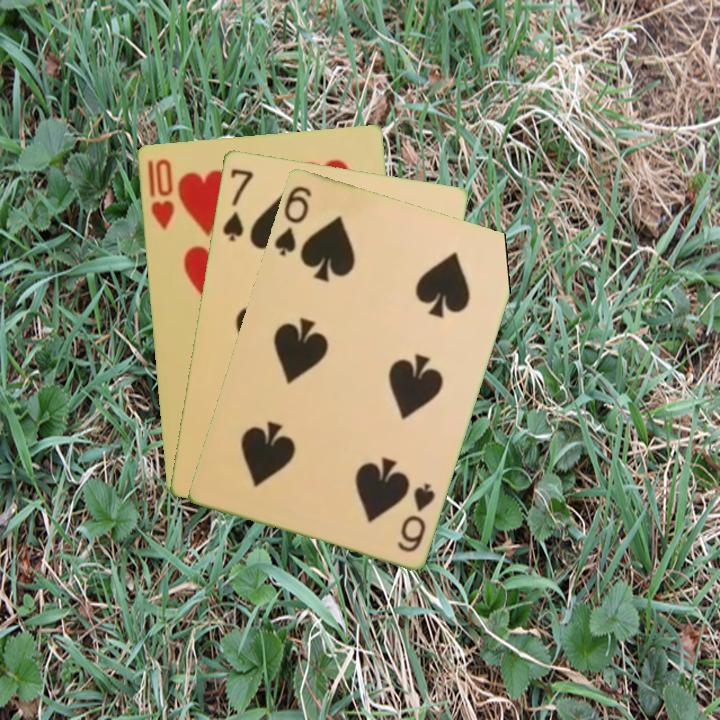10h: (147, 155, 177, 232)
6s: (393, 479, 438, 555), (270, 182, 314, 259)
7s: (218, 164, 256, 244)
